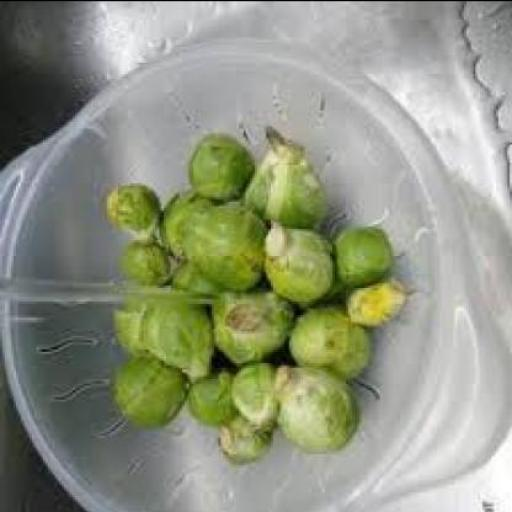biodegradable: (237, 123, 323, 228), (175, 198, 264, 284), (271, 362, 354, 450), (283, 300, 371, 378), (262, 216, 334, 302), (210, 288, 293, 358), (110, 346, 184, 423), (138, 296, 210, 375), (184, 128, 246, 196), (328, 226, 392, 284), (230, 354, 280, 426), (155, 189, 212, 245), (216, 412, 270, 464), (342, 275, 400, 323), (106, 180, 154, 236), (188, 362, 230, 423), (112, 291, 148, 350), (118, 239, 166, 282), (168, 259, 216, 296)
